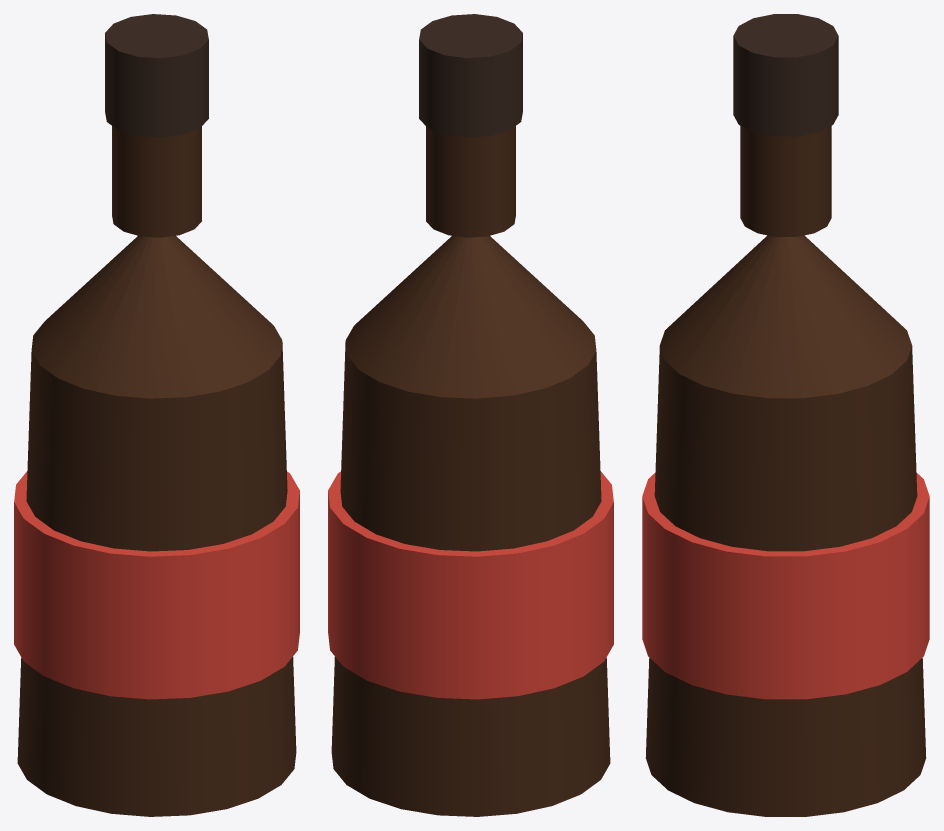
The model's file is wok_food_soy.glb.
The picture shows the model from 3 angles, left to right: view 1: azimuth 30°, elevation 25°; view 2: azimuth 150°, elevation 25°; view 3: azimuth 270°, elevation 25°; orthographic projection.
Size of the model in its own units: 0.0812 by 0.2275 by 0.082.
